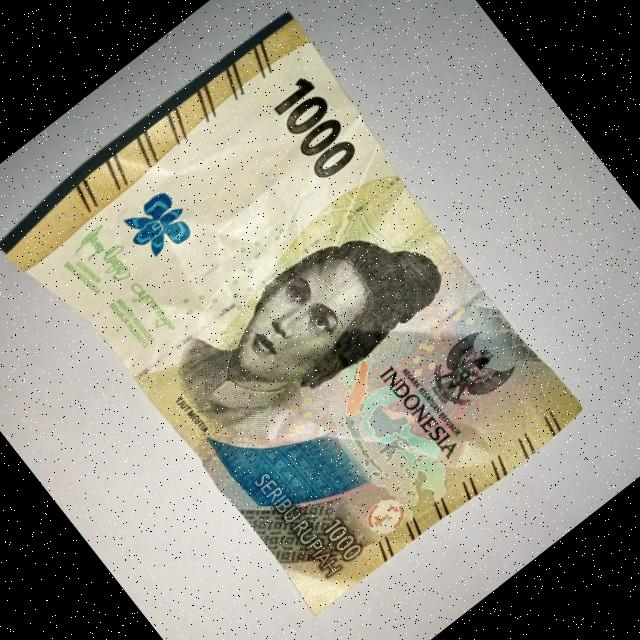1K: (0, 6, 602, 640)
